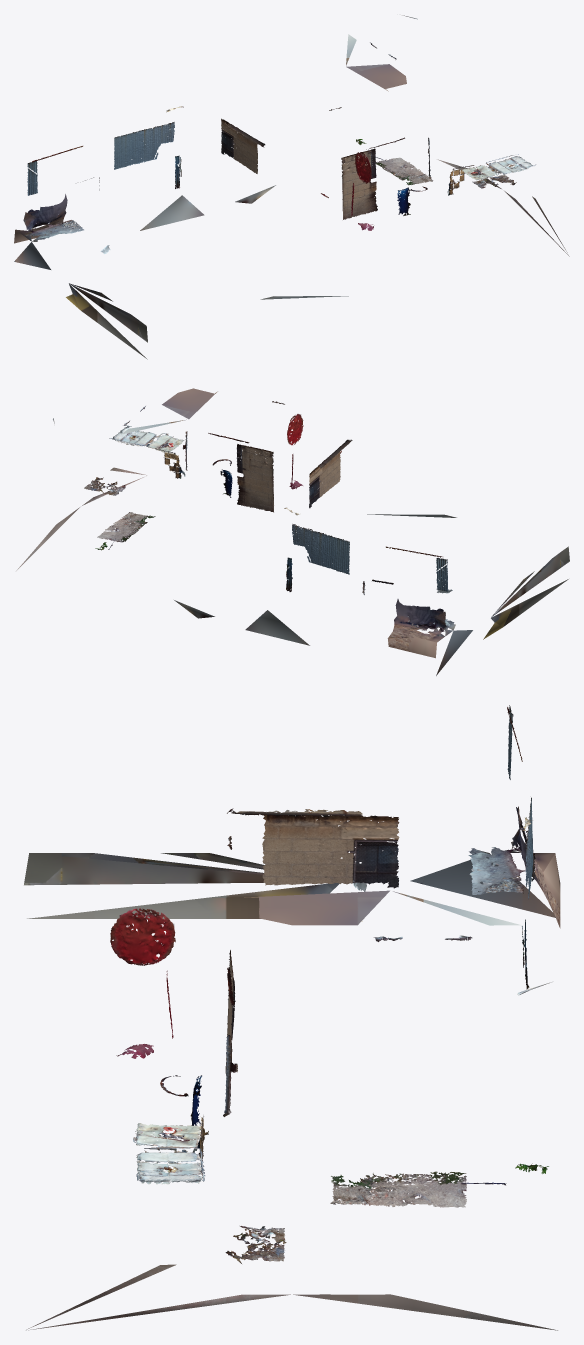
The picture shows the model from 3 angles, top to bottom: view 1: azimuth 30°, elevation 25°; view 2: azimuth 150°, elevation 25°; view 3: azimuth 270°, elevation 25°; orthographic projection. The views are drawn at different scales.
Size of the model in its own units: 11.17 by 3.93 by 6.15.
1 material, 1 textured.
